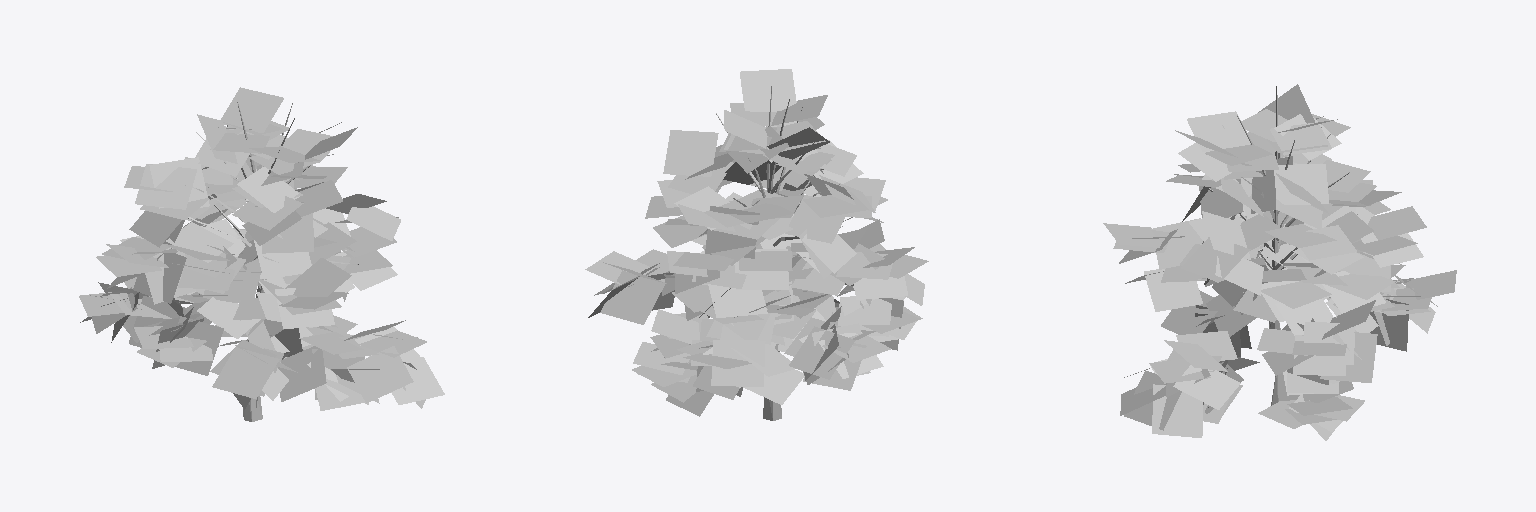
File: tree1a_lod2.obj
3 views of the same model, side by side, from view 1: azimuth 30°, elevation 25°; view 2: azimuth 150°, elevation 25°; view 3: azimuth 270°, elevation 25° (orthographic).
Parts seen in each view (by area): view 1: leaves 0.0 0.[number redacted] 0.0 0 0 0 0.[number redacted] 0.[number redacted], bark 0.[number redacted] -0.[number redacted] -0.[number redacted]; view 2: leaves 0.0 0.[number redacted] 0.0 0 0 0 0.[number redacted] 0.[number redacted], bark 0.[number redacted] -0.[number redacted] -0.[number redacted]; view 3: leaves 0.0 0.[number redacted] 0.0 0 0 0 0.[number redacted] 0.[number redacted], bark 0.[number redacted] -0.[number redacted] -0.[number redacted].
Boxes of the visible parts, box(x1,y1,x2,y2) form: leaves 0.0 0.[number redacted] 0.0 0 0 0 0.[number redacted] 0.[number redacted]: box(79, 87, 444, 410); bark 0.[number redacted] -0.[number redacted] -0.[number redacted]: box(185, 102, 358, 421); leaves 0.0 0.[number redacted] 0.0 0 0 0 0.[number redacted] 0.[number redacted]: box(585, 69, 928, 416); bark 0.[number redacted] -0.[number redacted] -0.[number redacted]: box(716, 86, 842, 420); leaves 0.0 0.[number redacted] 0.0 0 0 0 0.[number redacted] 0.[number redacted]: box(1103, 84, 1456, 440); bark 0.[number redacted] -0.[number redacted] -0.[number redacted]: box(1198, 86, 1349, 405).
Size of the model in its own units: 0.9827 by 1 by 1.